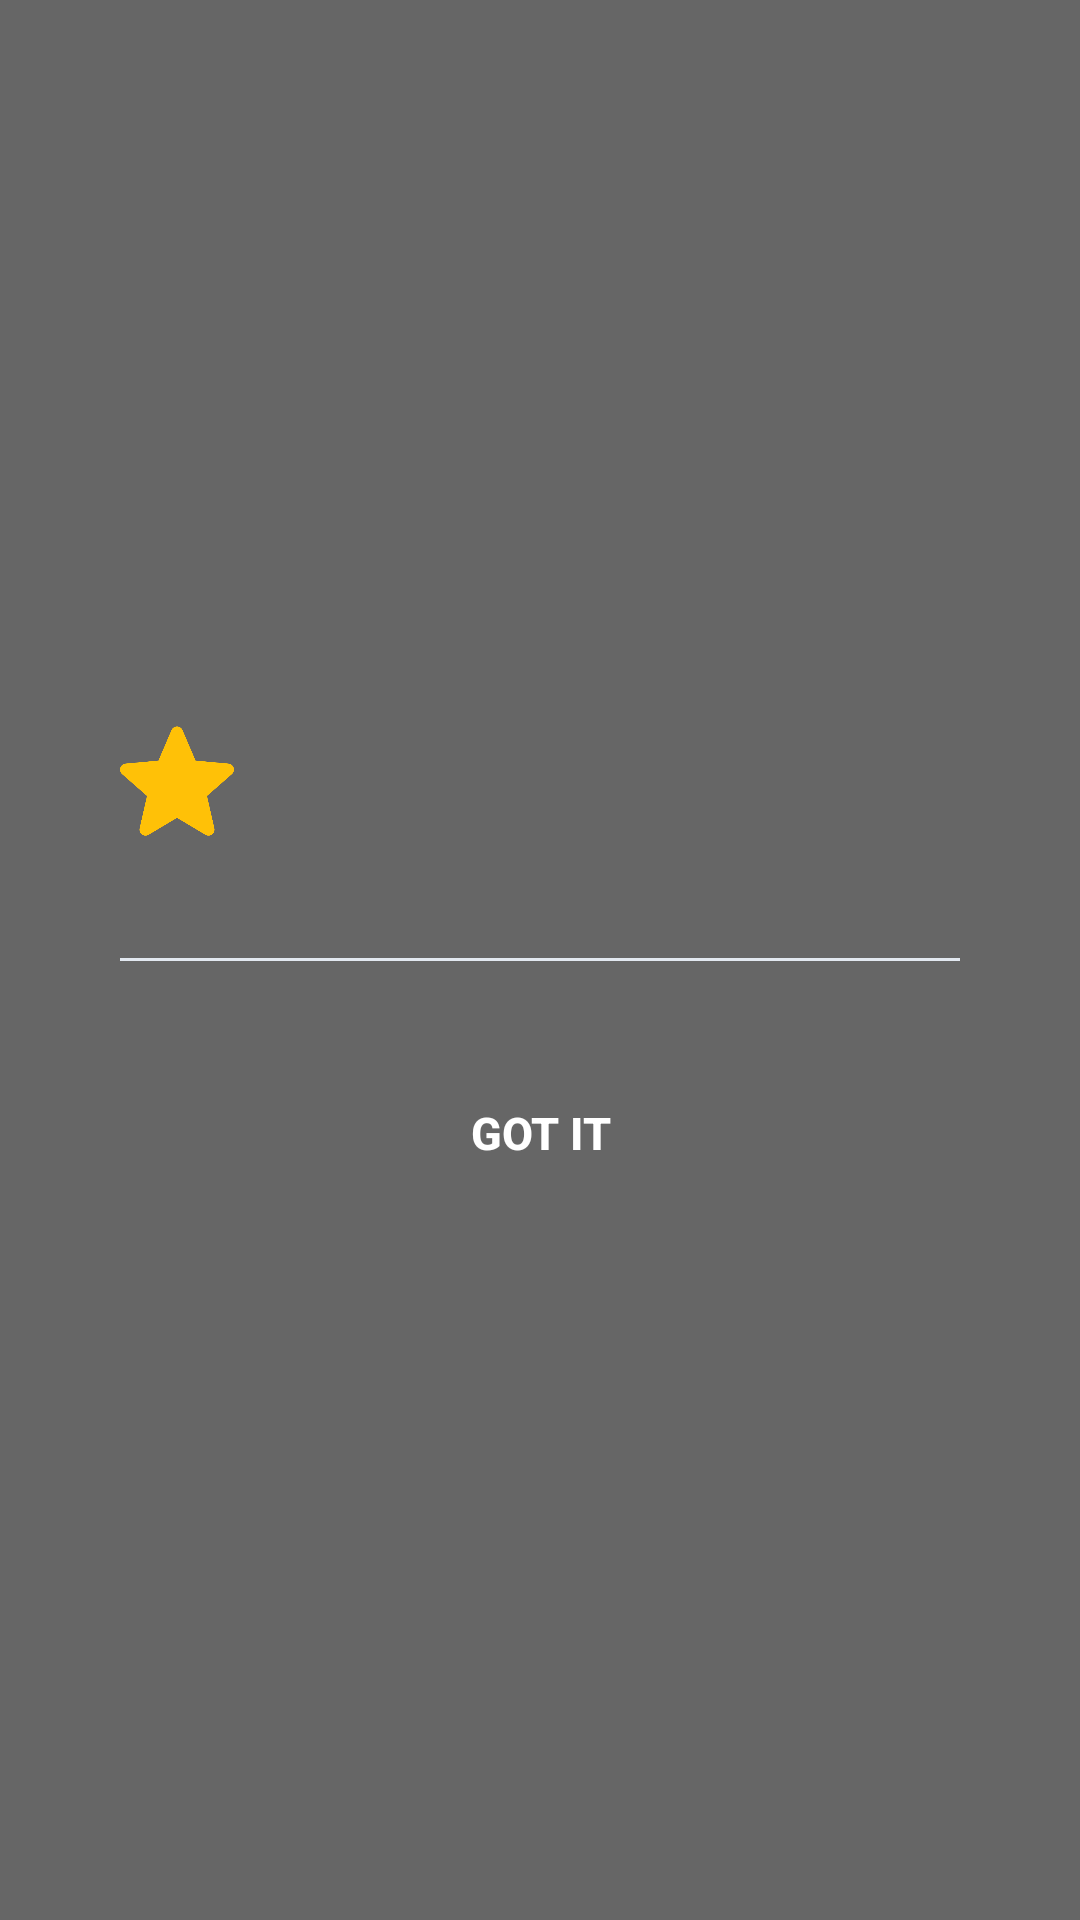

Icons on this 1080px×1920px Android screen, each with the point to tap as (x,y):
Tier Icon: (177,781)
